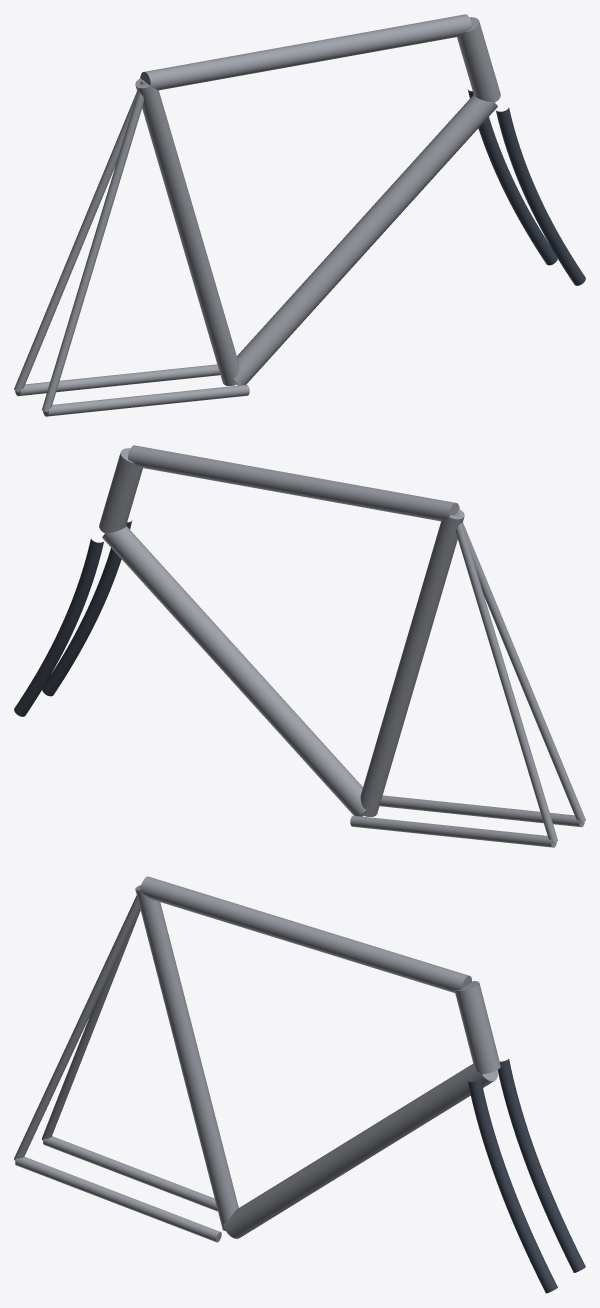
The model's file is cinelli-vigorelli-rainbow-l.glb.
3 renders of one model, top to bottom at view 1: azimuth 30°, elevation 25°; view 2: azimuth 150°, elevation 25°; view 3: azimuth 330°, elevation 25°, orthographic.
Visible parts, largest first — view 1: paint_down, paint_top, paint_seat, paint_seatstay_0.045, paint_seatstay_-0.045, fork_0.045, paint_chainstay_0.045, paint_chainstay_-0.045, fork_-0.045, paint_head; view 2: paint_down, paint_top, paint_seat, paint_seatstay_-0.045, paint_seatstay_0.045, fork_-0.045, paint_chainstay_-0.045, paint_chainstay_0.045, fork_0.045, paint_head; view 3: paint_down, paint_top, paint_seat, fork_0.045, fork_-0.045, paint_seatstay_0.045, paint_chainstay_0.045, paint_head, paint_chainstay_-0.045, paint_seatstay_-0.045.
Part boxes in pixels (x1,y1,x2,y2): paint_down: (234, 95, 497, 385); paint_top: (140, 14, 471, 90); paint_seat: (135, 78, 239, 385); paint_seatstay_0.045: (42, 81, 147, 412); paint_seatstay_-0.045: (14, 80, 144, 392); fork_0.045: (496, 107, 585, 285); paint_chainstay_0.045: (43, 384, 249, 416); paint_chainstay_-0.045: (15, 364, 220, 396); fork_-0.045: (467, 89, 557, 265); paint_head: (457, 17, 500, 102); paint_down: (102, 526, 365, 816); paint_top: (128, 445, 459, 521); paint_seat: (360, 509, 464, 816); paint_seatstay_-0.045: (452, 512, 557, 843); paint_seatstay_0.045: (455, 511, 585, 823); fork_-0.045: (14, 538, 103, 716); paint_chainstay_-0.045: (350, 815, 556, 847); paint_chainstay_0.045: (379, 795, 584, 827); fork_0.045: (42, 520, 132, 696); paint_head: (99, 448, 142, 533); paint_down: (223, 1064, 497, 1238); paint_top: (140, 876, 471, 992); paint_seat: (135, 885, 238, 1230); fork_0.045: (467, 1079, 557, 1293); fork_-0.045: (497, 1058, 585, 1272); paint_seatstay_0.045: (14, 887, 140, 1160); paint_chainstay_0.045: (15, 1156, 221, 1242); paint_head: (455, 981, 500, 1074); paint_chainstay_-0.045: (43, 1136, 217, 1211); paint_seatstay_-0.045: (41, 908, 140, 1140).
Size of the model in its own units: 1.01 by 0.6003 by 0.112.
